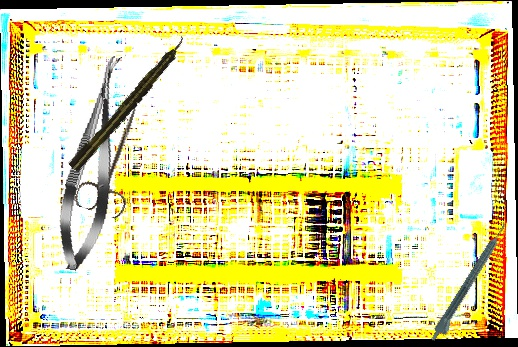Handpiece: (66, 33, 192, 174), (428, 221, 514, 346)
Iris Scissors: (72, 99, 157, 221)
Micro Scissor: (49, 51, 137, 275)
